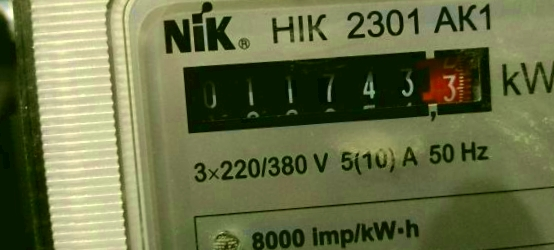0: (197, 75, 219, 112)
1: (280, 69, 298, 104), (243, 73, 256, 106)
3: (394, 63, 415, 99), (439, 71, 459, 105)
4: (357, 66, 377, 101)
7: (318, 68, 339, 103)
screen: (166, 28, 507, 149)
